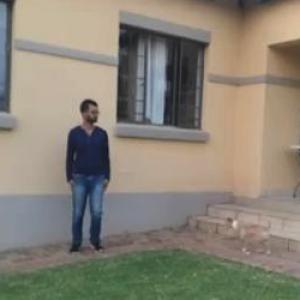follow: (79, 103, 125, 257)
